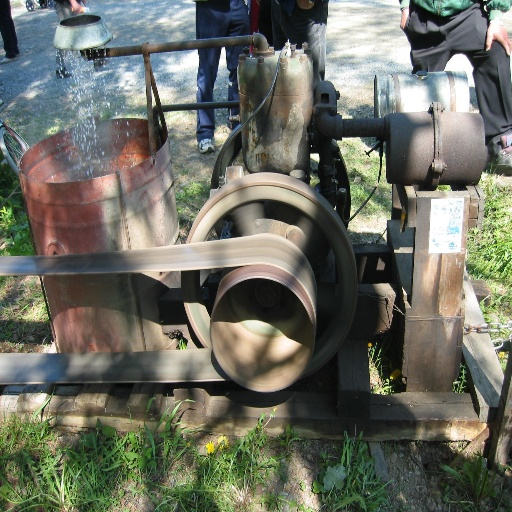hand: (486, 20, 511, 53), (400, 6, 409, 28), (296, 0, 315, 10), (69, 0, 83, 12), (79, 0, 88, 5)
